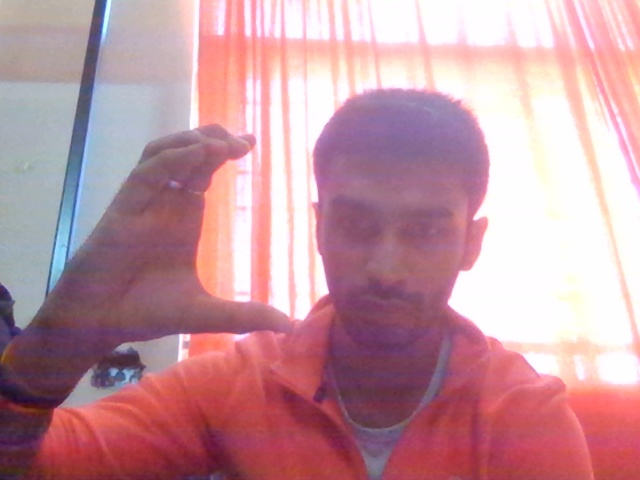C: (22, 106, 305, 387)
